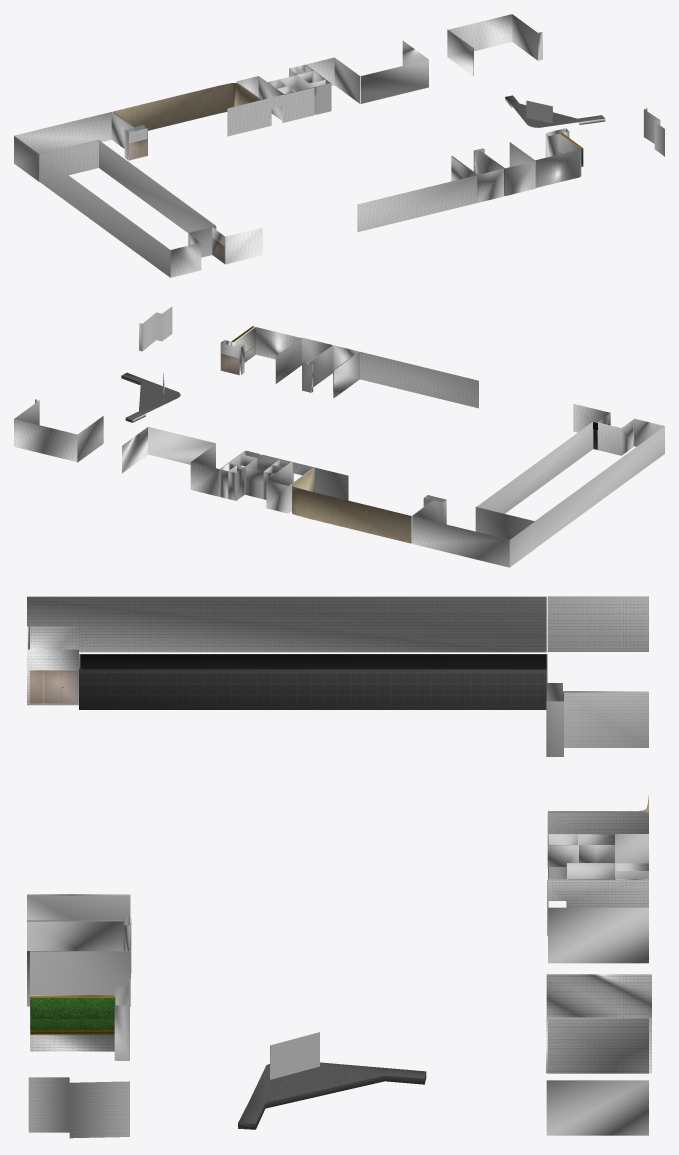
Rendered from TELLUS_arena_walls.FBX.
The picture shows the model from 3 angles, top to bottom: view 1: azimuth 30°, elevation 25°; view 2: azimuth 150°, elevation 25°; view 3: azimuth 270°, elevation 25°; orthographic projection. The views are drawn at different scales.
Parts seen in each view (by area): view 1: TELLUS_arena_walls; view 2: TELLUS_arena_walls; view 3: TELLUS_arena_walls.
Part boxes in pixels (<box>): TELLUS_arena_walls: <box>14,14,664,277</box>; TELLUS_arena_walls: <box>14,306,664,567</box>; TELLUS_arena_walls: <box>27,596,651,1138</box>.
Bounding box in the file's own units: 6663 × 3600 × 375.
